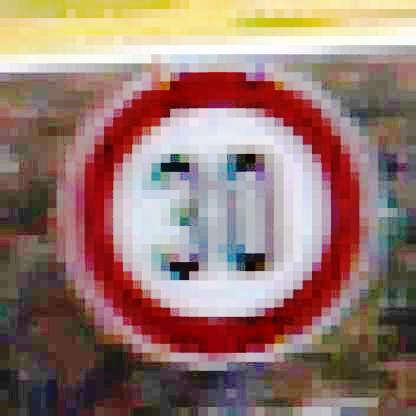Speed Limit -30-: (61, 60, 378, 366)
